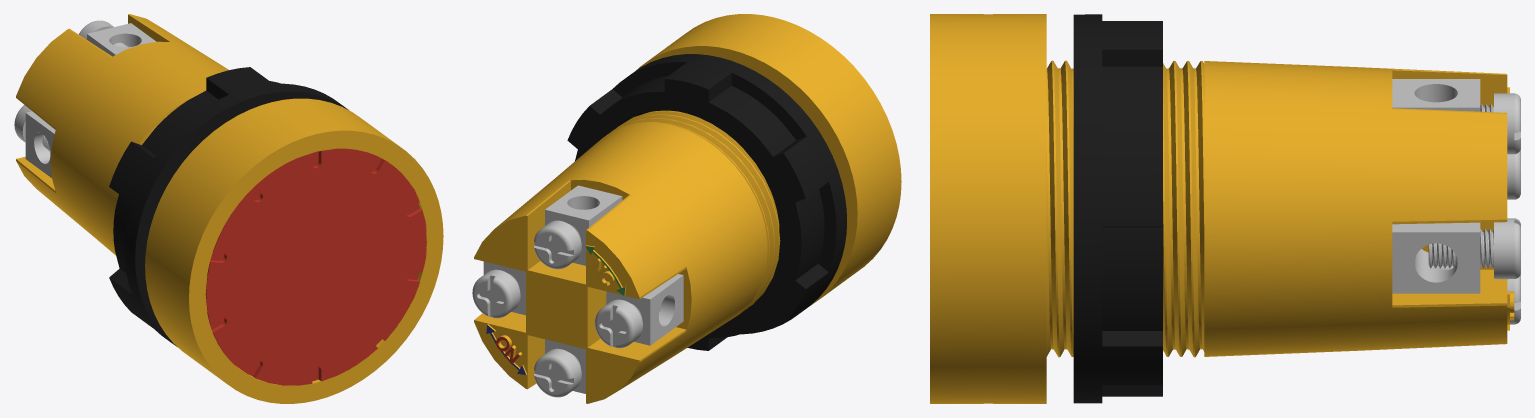
File: 25mm Push Button SwitchRed.fbx
3 views of the same model, side by side, from view 1: azimuth 30°, elevation 25°; view 2: azimuth 150°, elevation 25°; view 3: azimuth 270°, elevation 25° (orthographic). The views are drawn at different scales.
Visible parts, largest first — view 1: Body1 (×6); view 2: Body1 (×10); view 3: Body1 (×7).
Part boxes in pixels (bbox=[...]): Body1 (×6): bbox=[14, 14, 443, 403]; Body1 (×10): bbox=[472, 14, 901, 403]; Body1 (×7): bbox=[930, 14, 1520, 403].
Size of the model in its own units: 28.8 by 28.8 by 43.6.
